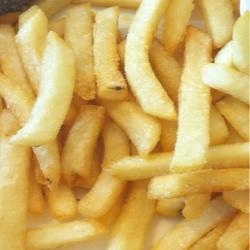fries: (27, 29, 212, 213)
